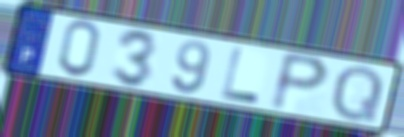0: (55, 18, 103, 80)
3: (112, 28, 161, 88)
9: (169, 38, 213, 96)
L: (219, 45, 263, 106)
P: (266, 49, 333, 114)
Q: (328, 63, 387, 124)
